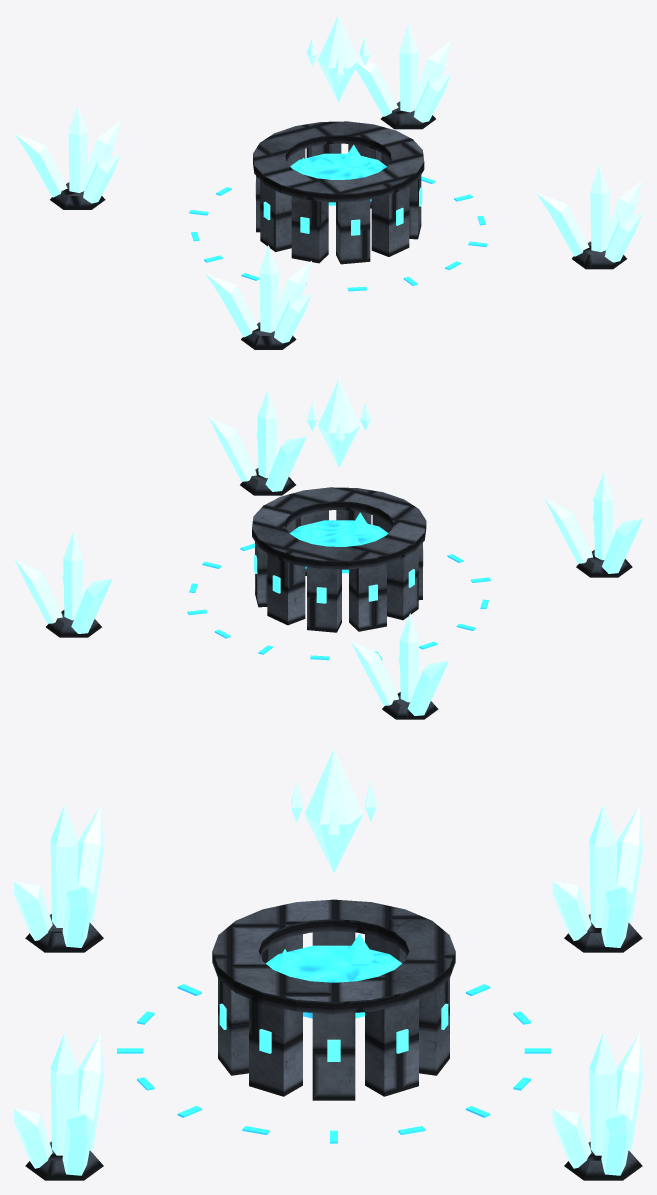
Rendered from mana_well.glb.
The picture shows the model from 3 angles, top to bottom: view 1: azimuth 30°, elevation 25°; view 2: azimuth 150°, elevation 25°; view 3: azimuth 270°, elevation 25°; orthographic projection. The views are drawn at different scales.
Parts seen in each view (by area): view 1: base_mesh, wisp_mesh; view 2: base_mesh, wisp_mesh; view 3: base_mesh, wisp_mesh, flame_1_mesh.
Boxes of the visible parts, box(x1,y1,x2,y2) form: base_mesh: box(14, 24, 642, 349); wisp_mesh: box(306, 14, 370, 102); base_mesh: box(14, 389, 642, 719); wisp_mesh: box(306, 378, 371, 467); base_mesh: box(14, 805, 642, 1180); wisp_mesh: box(291, 749, 376, 872); flame_1_mesh: box(343, 933, 375, 965).
Size of the model in its own units: 2.15 by 1.02 by 1.91.
9 materials, 4 textured.
